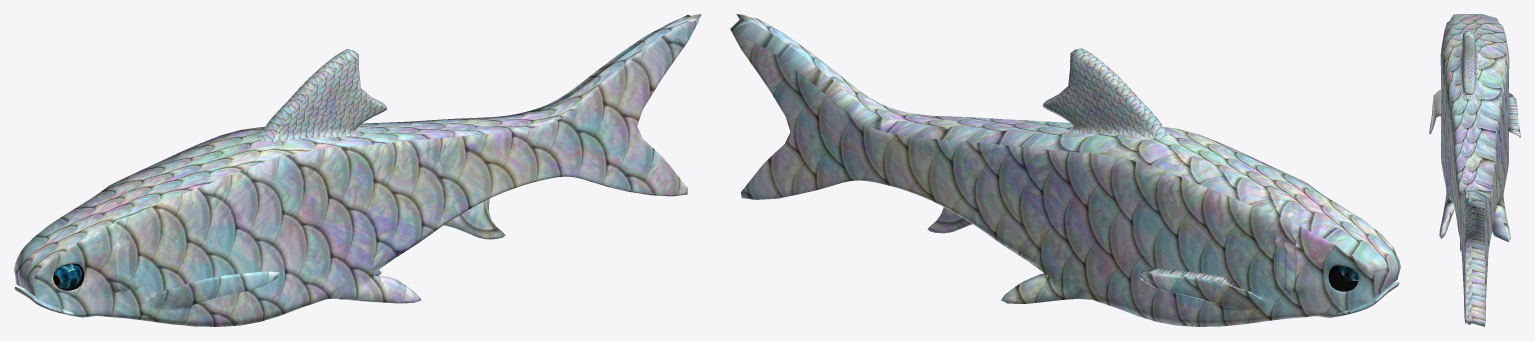
The model's file is Fish 1.fbx.
3 renders of one model, left to right at view 1: azimuth 30°, elevation 25°; view 2: azimuth 150°, elevation 25°; view 3: azimuth 270°, elevation 25°, orthographic. The views are drawn at different scales.
Visible parts, largest first — view 1: pCube3; view 2: pCube3; view 3: pCube3.
Boxes of the visible parts, bbox=[...] form: pCube3: bbox=[14, 14, 701, 326]; pCube3: bbox=[730, 14, 1400, 326]; pCube3: bbox=[1429, 14, 1520, 326].
Size of the model in its own units: 11.22 by 4.01 by 1.75.
